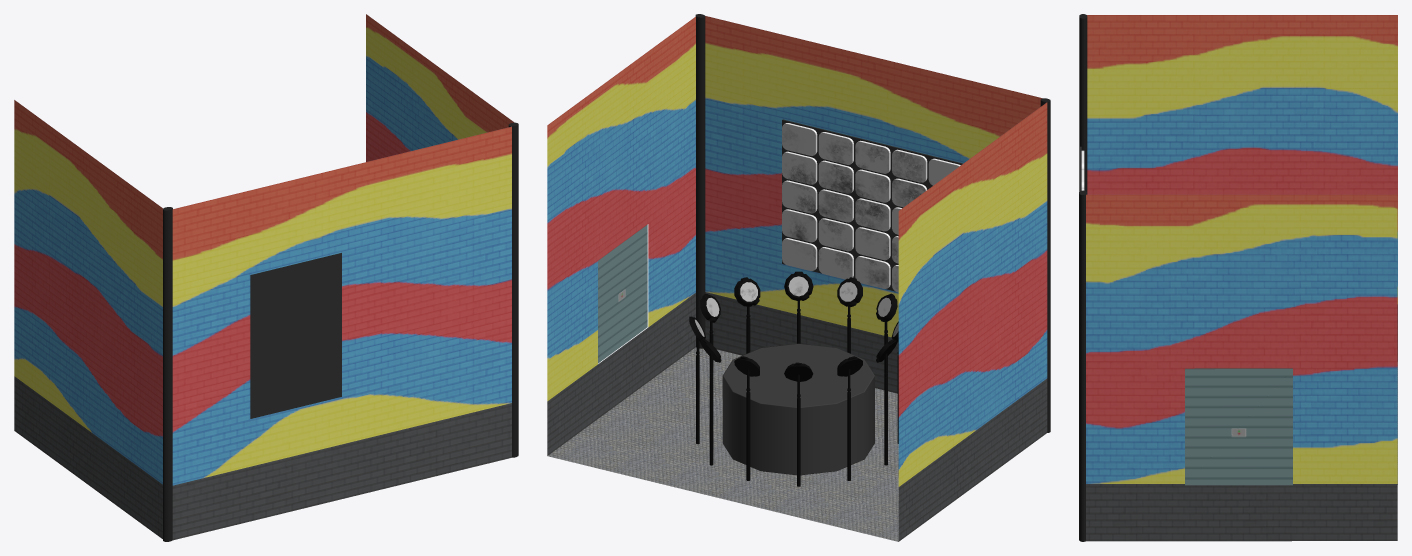
File: san2.fbx
3 renders of one model, left to right at view 1: azimuth 30°, elevation 25°; view 2: azimuth 150°, elevation 25°; view 3: azimuth 270°, elevation 25°, orthographic. The views are drawn at different scales.
Parts seen in each view (by area): view 1: tuong, man hinh; view 2: tuong, man hinh, de tron, cua.001, cot den1, cot den12, cot den6, cot den5, cot den11, cot den7, cot den2, cot den10 (+2 smaller); view 3: tuong, cua.001.
Part boxes in pixels (x1,y1,x2,y2): tuong: (14, 14, 518, 541); man hinh: (250, 253, 341, 418); tuong: (547, 14, 1050, 541); man hinh: (782, 119, 962, 292); de tron: (722, 343, 874, 475); cua.001: (598, 224, 647, 363); cot den1: (734, 356, 759, 480); cot den12: (784, 362, 813, 486); cot den6: (784, 271, 813, 343); cot den5: (734, 277, 760, 353); cot den11: (837, 356, 862, 480); cot den7: (837, 277, 862, 353); cot den2: (700, 339, 721, 465); cot den10: (876, 339, 897, 465); tuong: (1079, 14, 1397, 541); cua.001: (1185, 368, 1292, 485).
Size of the model in its own units: 2790 by 2485 by 2071.
23 materials, 5 textured.
